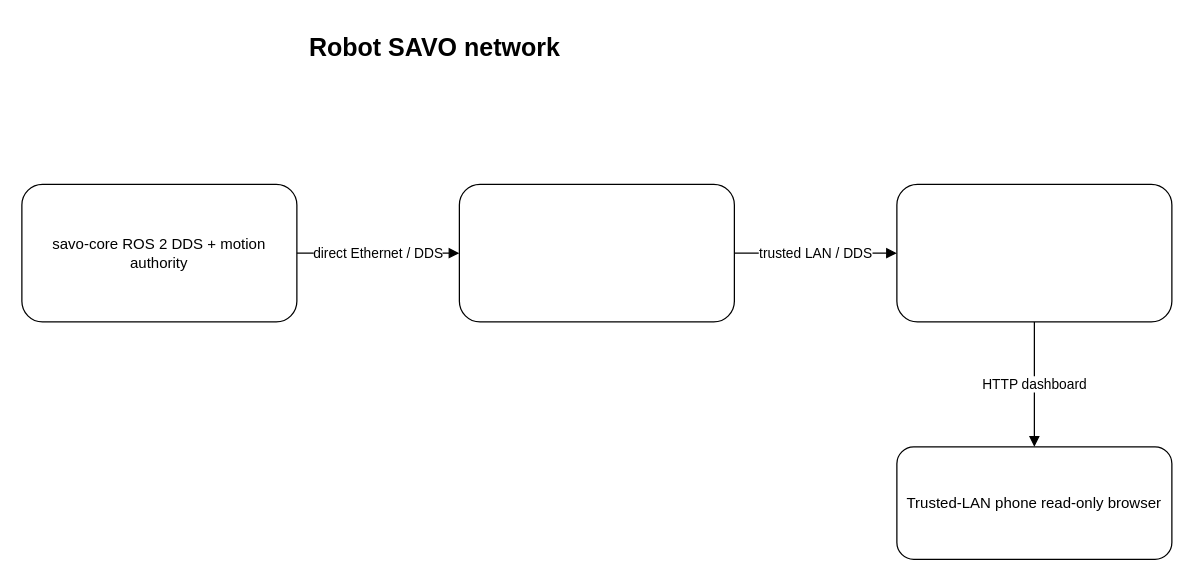
The diagram is 1194 pixels wide and 581 high, and some of its shapes have lost their labels. The box of each missing label's shape, as (x1, y1, x2, y2) in pixels:
Observer RViz2 + read-only dashboard: (896, 183, 1172, 322)
savo-edge ROS 2 DDS + SavoMind: (458, 183, 734, 322)
